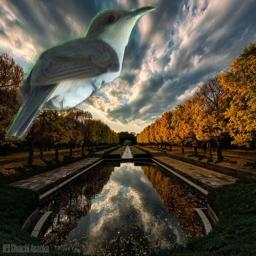Cuckoo: (5, 4, 158, 142)
